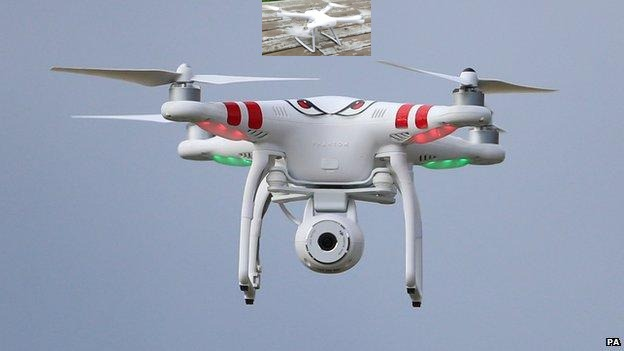drone: (45, 58, 559, 308), (262, 0, 371, 56)
